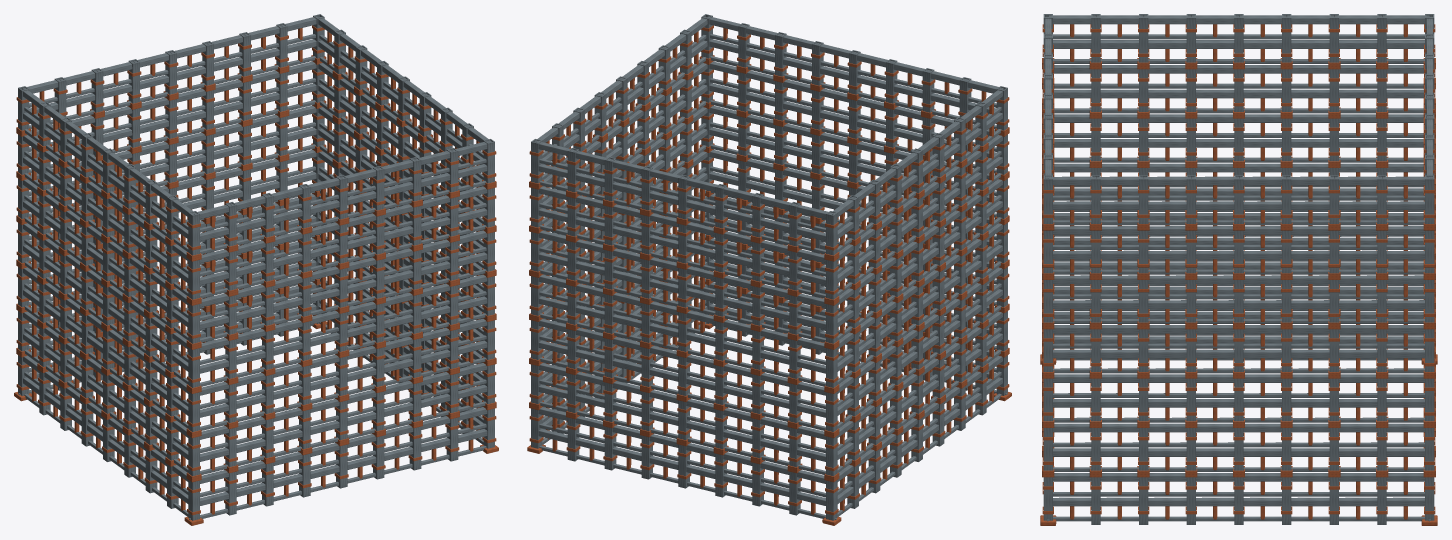
3 renders of one model, left to right at view 1: azimuth 30°, elevation 25°; view 2: azimuth 150°, elevation 25°; view 3: azimuth 270°, elevation 25°, orthographic. The views are drawn at different scales.
Bounding box in the file's own units: 3.75 × 3.6 × 3.75.
Materials: 2 (2 with a texture image).
